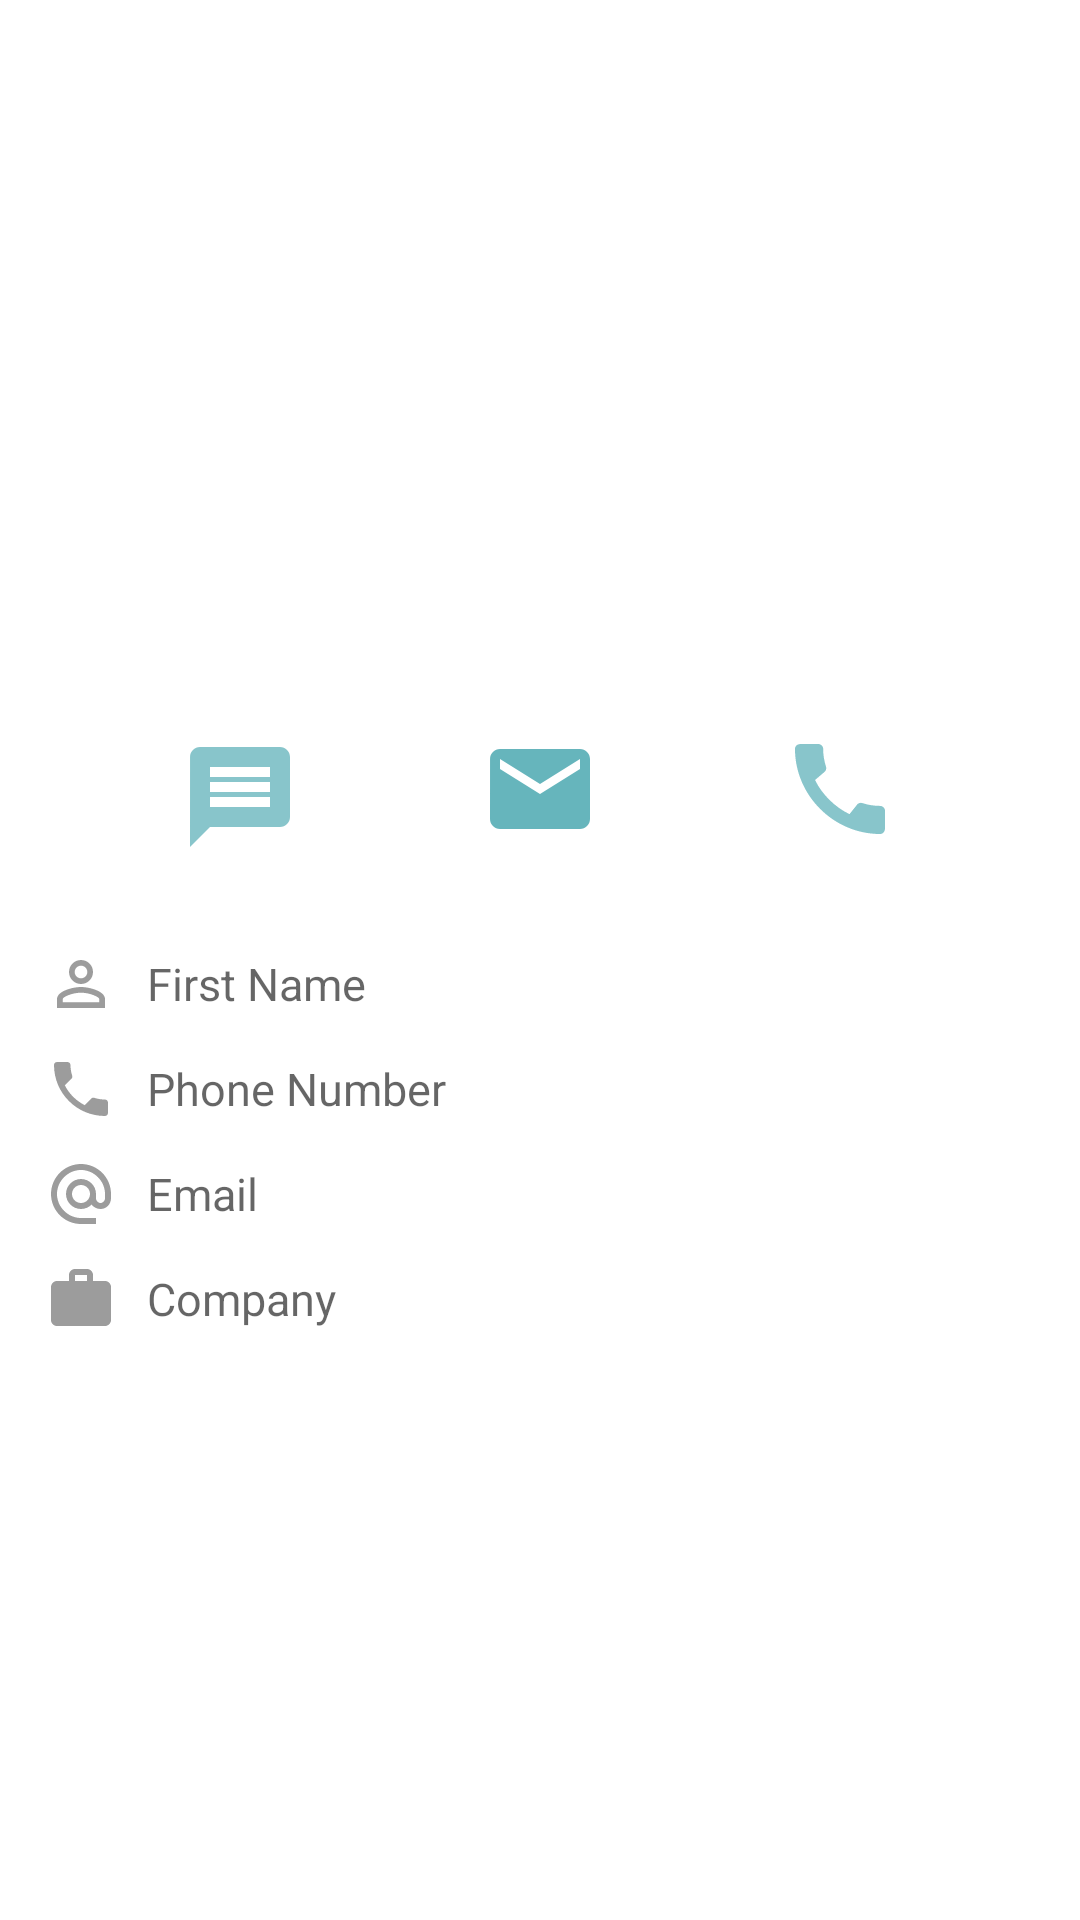

Named icons in this screenshot (1080px x 1920px) and their bounding boxes, [x1, y1, x2, y2]:
call: [795, 744, 885, 834]
email: [490, 749, 590, 829]
message: [190, 747, 290, 847]
